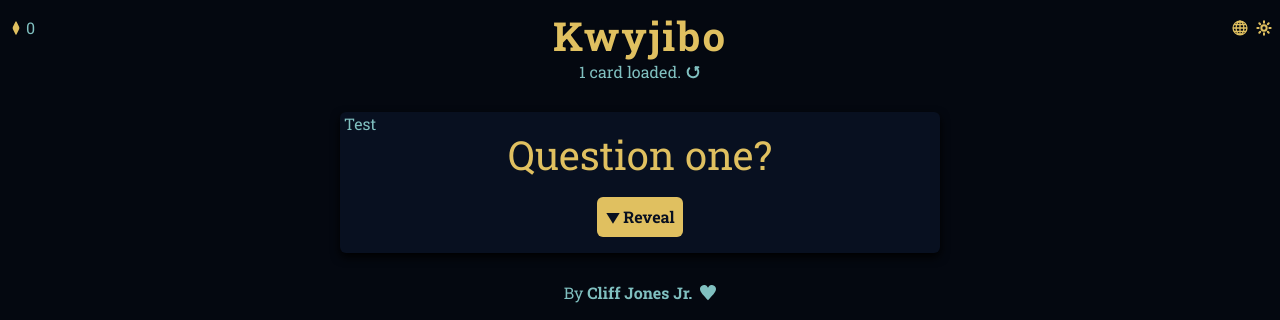
Test: App › cancels the reset confirmation without reloading the deck
Click the button titled "Reset": (693,72) [685,64,701,80]
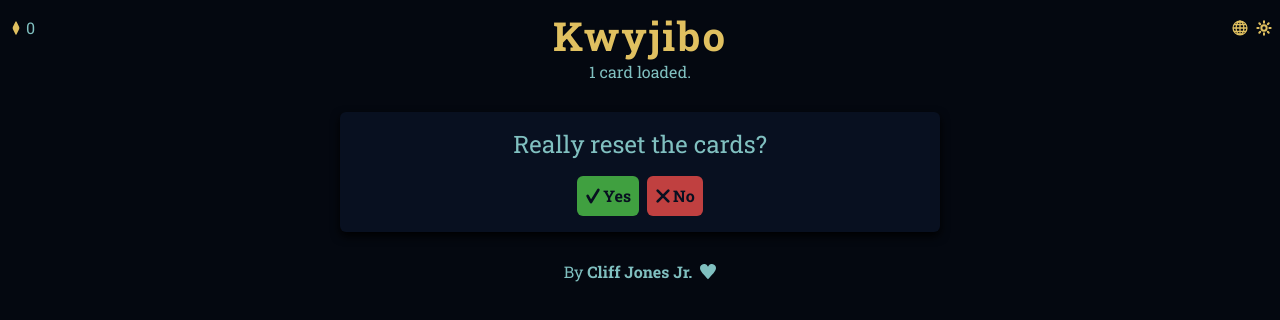
Result: the heading "Really reset the cards?" is shown at [513,128,767,160]
Click the button "No": (675,196) [647,176,703,216]
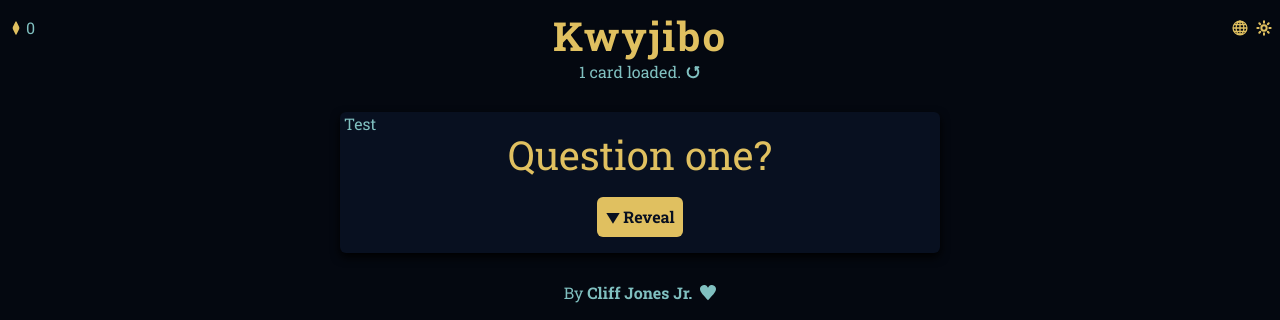
Result: the heading "Really reset the cards?" is gone
Result: the text "Question one?" is shown at [508,128,772,181]
